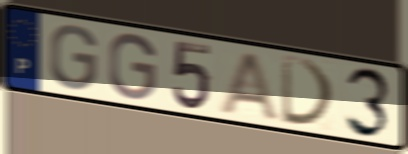3: (340, 65, 395, 141)
5: (170, 38, 214, 110)
A: (216, 51, 284, 124)
D: (279, 53, 339, 129)
G: (106, 31, 159, 102), (47, 22, 100, 93)
